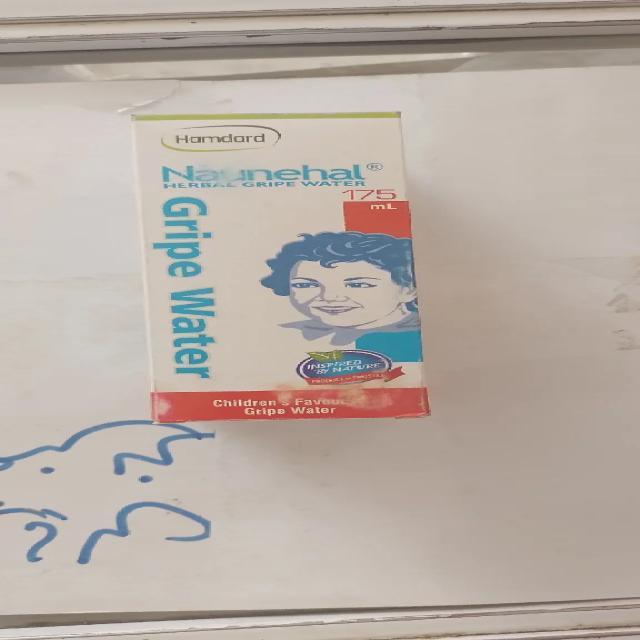drug-name: (163, 164, 366, 182)
